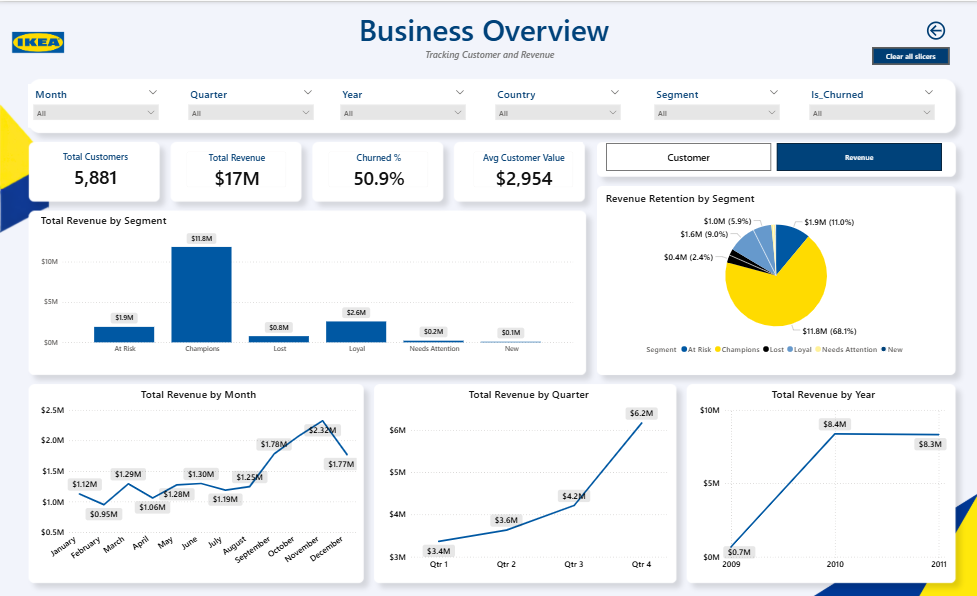

This screenshot's page, from the dashboard's own definition file:
{"tool":"powerbi","page":{"name":"Overview","canvas":[1750,1100],"ordinal":0},"visuals":[{"type":"cardVisual","fields":{"Data":["Sheet1.Total Customers"]},"box":[64,250,212,98],"z":0},{"type":"columnChart","fields":{"Category":["Sheet1.Segment"],"Y":["Sheet1.Total Revenue"]},"box":[68.2,377.3,961.5,260.9],"z":0,"group":"g1"},{"type":"cardVisual","fields":{"Data":["Sheet1.Total Revenue"]},"box":[316,250,212,98],"z":1000},{"type":"pieChart","title":"Revenue Retention by Segment","fields":{"Category":["Sheet1.Segment"],"Series":["Sheet1.Is_Churned"],"Y":["Sheet1.Total Revenue"]},"box":[1077.9,337.2,618.2,301.1],"z":1000,"group":"g1"},{"type":"cardVisual","fields":{"Data":["Sheet1.Churned %"]},"box":[570,250,212,98],"z":2000},{"type":"lineChart","fields":{"Y":["Sheet1.Total Revenue"],"Category":["Sheet1.InvoiceMonth.Variation.Date Hierarchy.Month"]},"box":[68.2,686.5,574.1,337.2],"z":2000,"group":"g1"},{"type":"cardVisual","fields":{"Data":["Sheet1.Avg Customer Value"]},"box":[828,250,212,98],"z":3000},{"type":"lineChart","fields":{"Y":["Sheet1.Total Revenue"],"Category":["Sheet1.InvoiceMonth.Variation.Date Hierarchy.Year"]},"box":[1244.5,686.5,451.6,337.2],"z":3000,"group":"g1"},{"type":"slicer","fields":{"Values":["Sheet1.InvoiceDate.Variation.Date Hierarchy.Month"]},"box":[50.2,146.5,242.9,78.3],"z":4000},{"type":"lineChart","fields":{"Y":["Sheet1.Total Revenue"],"Category":["Sheet1.InvoiceMonth.Variation.Date Hierarchy.Quarter"]},"box":[690.5,686.5,509.9,337.2],"z":4000,"group":"g1"},{"type":"slicer","fields":{"Values":["Sheet1.InvoiceDate.Variation.Date Hierarchy.Quarter"]},"box":[327.2,146.5,242.9,78.3],"z":5000},{"type":"slicer","fields":{"Values":["Sheet1.InvoiceDate.Variation.Date Hierarchy.Year"]},"box":[598.2,146.5,242.9,78.3],"z":6000},{"type":"slicer","fields":{"Values":["Sheet1.Country"]},"box":[875.2,146.5,242.9,78.3],"z":7000},{"type":"slicer","fields":{"Values":["Sheet1.Segment"]},"box":[1158.2,146.5,242.9,78.3],"z":8000},{"type":"slicer","fields":{"Values":["Sheet1.Is_Churned"]},"box":[1435.2,146.5,242.9,78.3],"z":9000},{"type":"group","id":"g1","title":"Revenue","box":[68.2,337.2,1627.9,686.5],"z":11000},{"type":"bookmarkNavigator","box":[1081.9,250.9,600.2,50.2],"z":12000},{"type":"image","box":[0,32.1,136.5,80.3],"z":13000},{"type":"textbox","box":[635.1,8,479.7,94.3],"z":14000},{"type":"actionButton","box":[1650,28.1,46.2,44.2],"z":15000},{"type":"actionButton","box":[1557.7,80.3,138.5,32.1],"z":16000},{"type":"textbox","box":[588,78.3,574.1,46.2],"z":17000}]}

Visuals, with their boxes on the page's 1750x1100 design canvas (x1, y1, x2, y2). These are canvas units, not pixel positions in the 977x596 screenshot, which may show the page scaled, cropped or inside an application window:
cardVisual - Sheet1.Total Customers: Rect(64, 250, 276, 348)
columnChart - Sheet1.Segment x Sheet1.Total Revenue: Rect(68, 377, 1030, 638)
cardVisual - Sheet1.Total Revenue: Rect(316, 250, 528, 348)
"Revenue Retention by Segment" pieChart: Rect(1078, 337, 1696, 638)
cardVisual - Sheet1.Churned %: Rect(570, 250, 782, 348)
lineChart - Sheet1.Total Revenue x Sheet1.InvoiceMonth.Variation.Date Hierarchy.Month: Rect(68, 686, 642, 1024)
cardVisual - Sheet1.Avg Customer Value: Rect(828, 250, 1040, 348)
lineChart - Sheet1.Total Revenue x Sheet1.InvoiceMonth.Variation.Date Hierarchy.Year: Rect(1244, 686, 1696, 1024)
slicer - Sheet1.InvoiceDate.Variation.Date Hierarchy.Month: Rect(50, 146, 293, 225)
lineChart - Sheet1.Total Revenue x Sheet1.InvoiceMonth.Variation.Date Hierarchy.Quarter: Rect(690, 686, 1200, 1024)
slicer - Sheet1.InvoiceDate.Variation.Date Hierarchy.Quarter: Rect(327, 146, 570, 225)
slicer - Sheet1.InvoiceDate.Variation.Date Hierarchy.Year: Rect(598, 146, 841, 225)
slicer - Sheet1.Country: Rect(875, 146, 1118, 225)
slicer - Sheet1.Segment: Rect(1158, 146, 1401, 225)
slicer - Sheet1.Is_Churned: Rect(1435, 146, 1678, 225)
"Revenue" group: Rect(68, 337, 1696, 1024)
bookmarkNavigator: Rect(1082, 251, 1682, 301)
image: Rect(0, 32, 136, 112)
textbox: Rect(635, 8, 1115, 102)
actionButton: Rect(1650, 28, 1696, 72)
actionButton: Rect(1558, 80, 1696, 112)
textbox: Rect(588, 78, 1162, 124)
